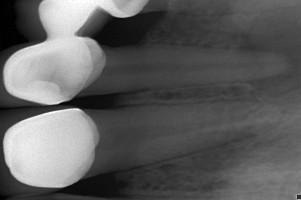Furcation Involvement: (239, 11, 301, 97)
